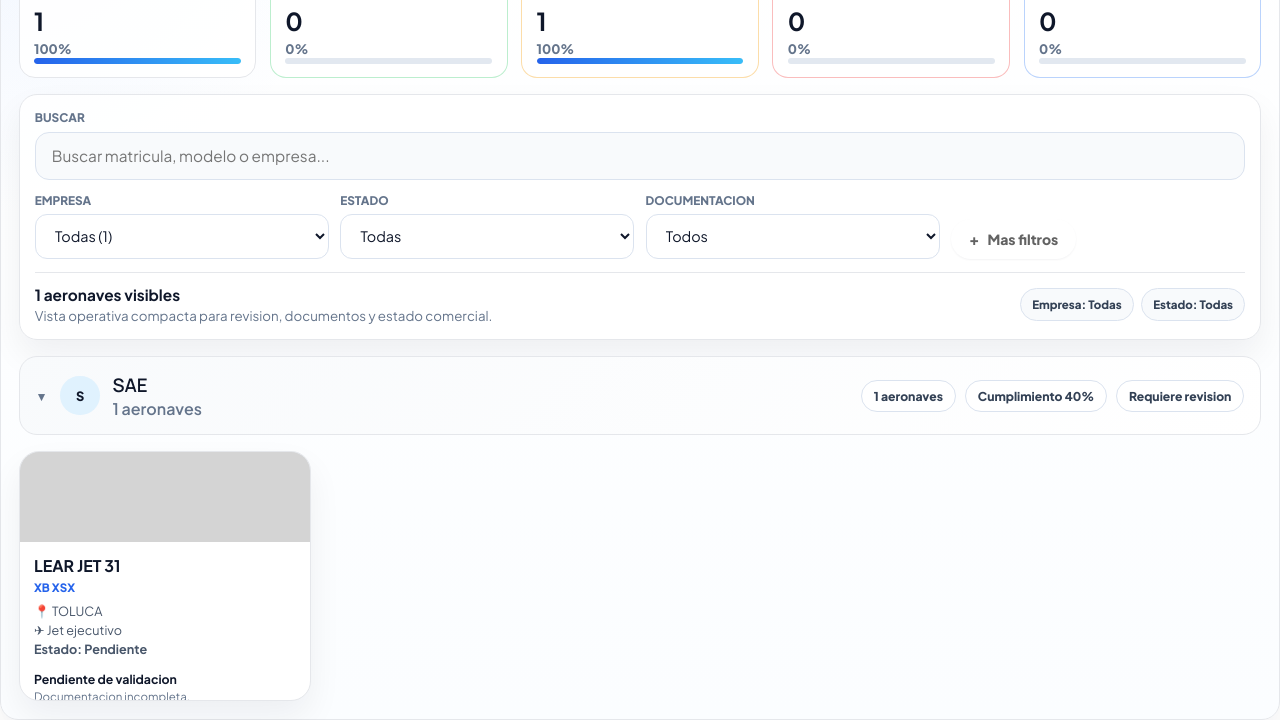
Scenario: AdminAircraftSubscriptionsSection › deduplicates visual duplicates by storage_path without mixing maintenance into other requirements
The width and height of the screenshot is (1280, 720).
(page scrolled)
Click the element with class "aircraft-card": (165,576) [19,451,311,701]
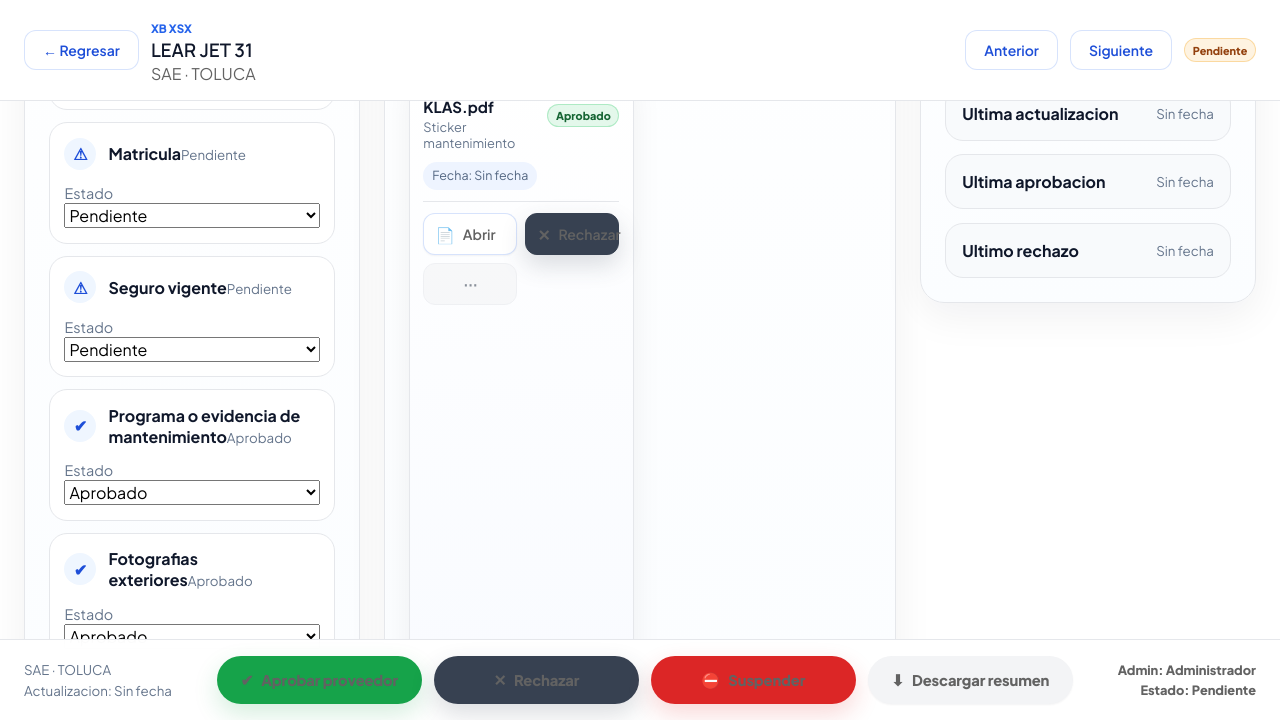
Now the number of elements with class "document-card" is 1, box [409,101,634,661]
Now the element with class "document-card" shows "Aprobado", box [556,109,611,122]
